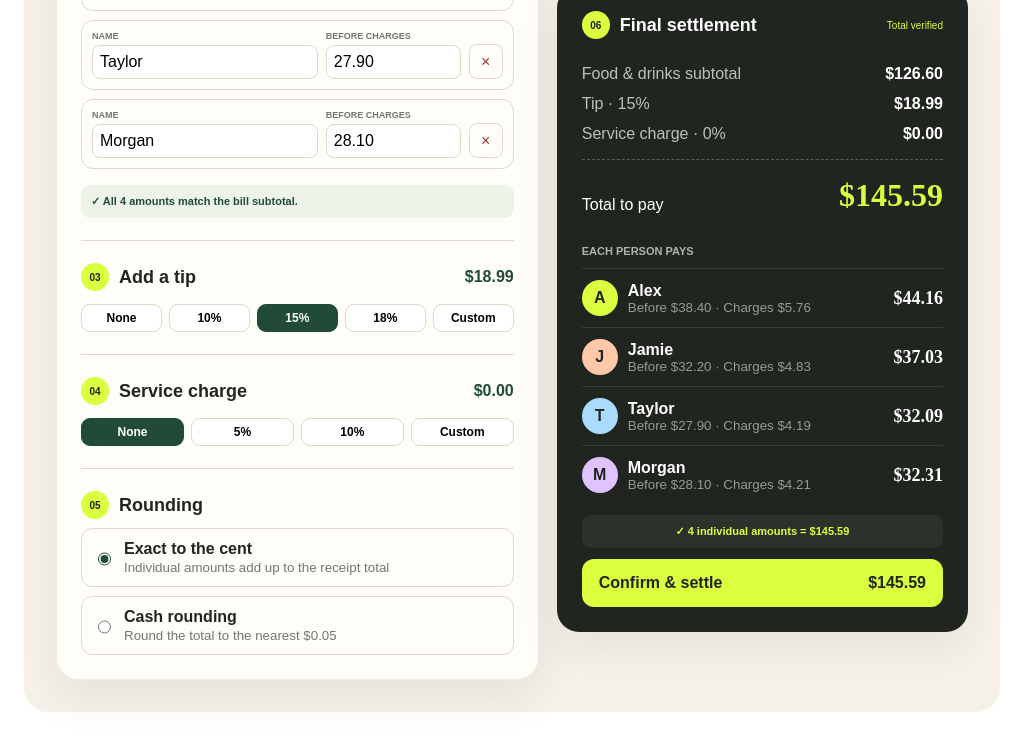
it: recalculates tip, service charge, and cash rounding
(page scrolled)
Step 1. Click the button "5%" → click(242, 432), box [191,418,294,446]
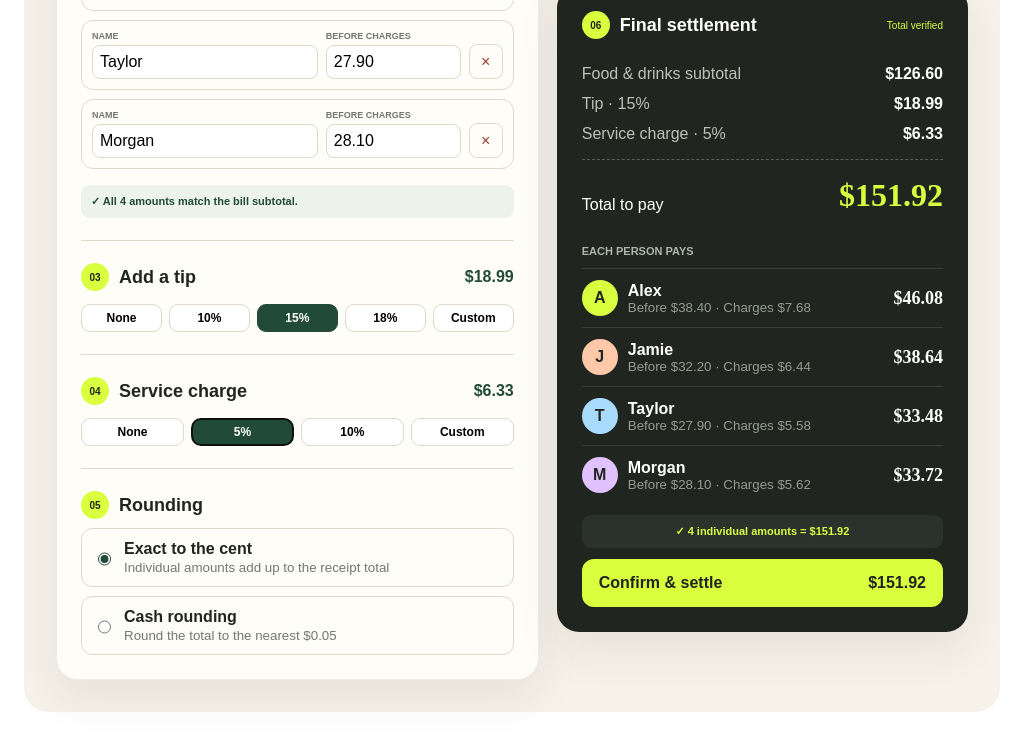
Step 2. Click the radio button labelled "Cash rounding Round the total to the nearest $0.05" → click(104, 627), box [98,611,111,643]
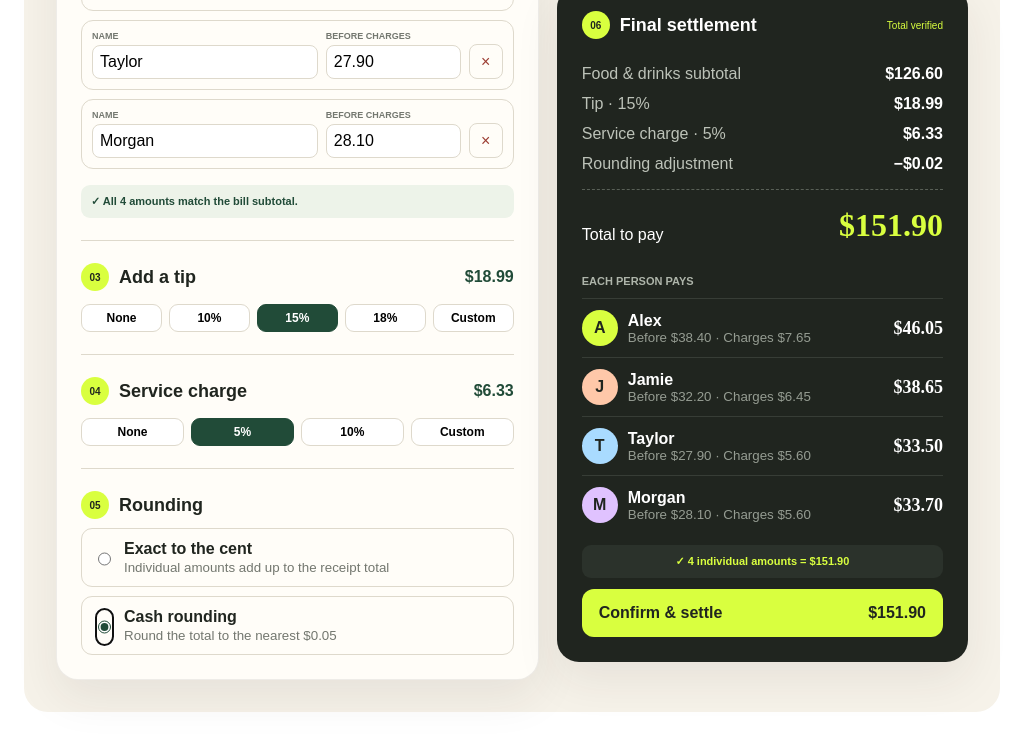
Expected: the text "$151.90" in the row of "Total to pay" is shown, [839,207,943,243]
Expected: the text "−$0.02" is shown, [894,155,943,173]
